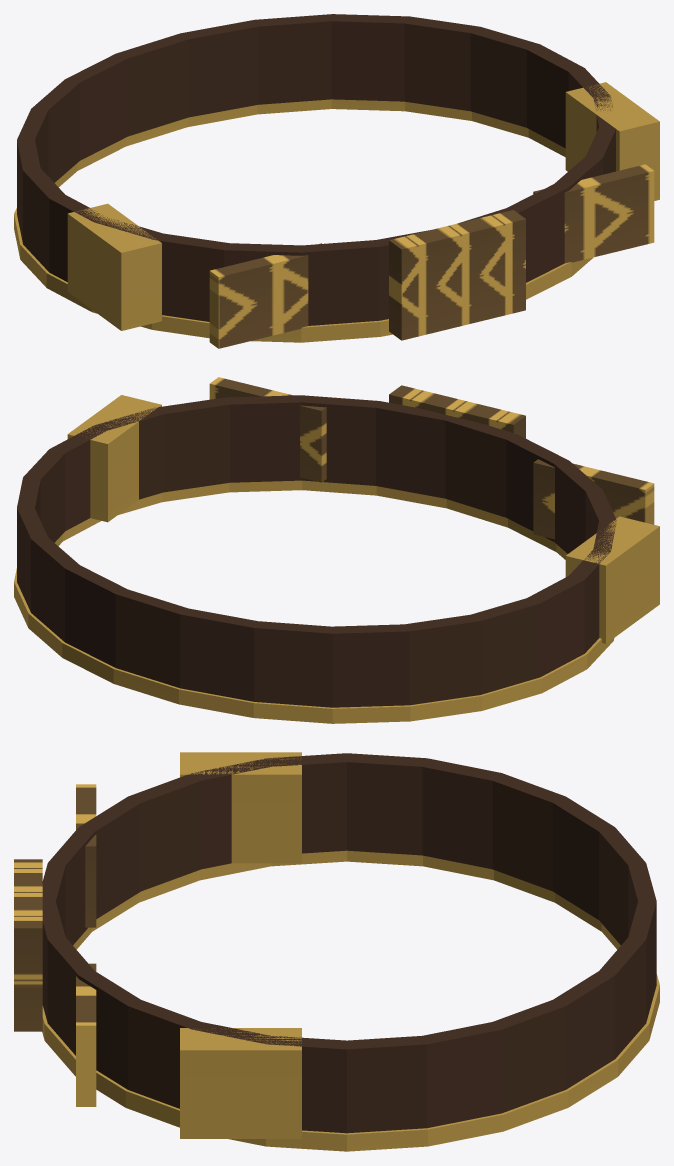
File: enano_cinto_3.glb
3 renders of one model, top to bottom at view 1: azimuth 30°, elevation 25°; view 2: azimuth 150°, elevation 25°; view 3: azimuth 270°, elevation 25°, orthographic. The views are drawn at different scales.
Parts seen in each view (by area): view 1: enano_cinto_3; view 2: enano_cinto_3; view 3: enano_cinto_3.
Part boxes in pixels (left/top/right/bottom): enano_cinto_3: left=14, top=14, right=659, bottom=348; enano_cinto_3: left=14, top=377, right=659, bottom=723; enano_cinto_3: left=14, top=752, right=659, bottom=1151.
Bounding box in the file's own units: 0.868 × 0.1465 × 0.7925.
1 material, 1 textured.
